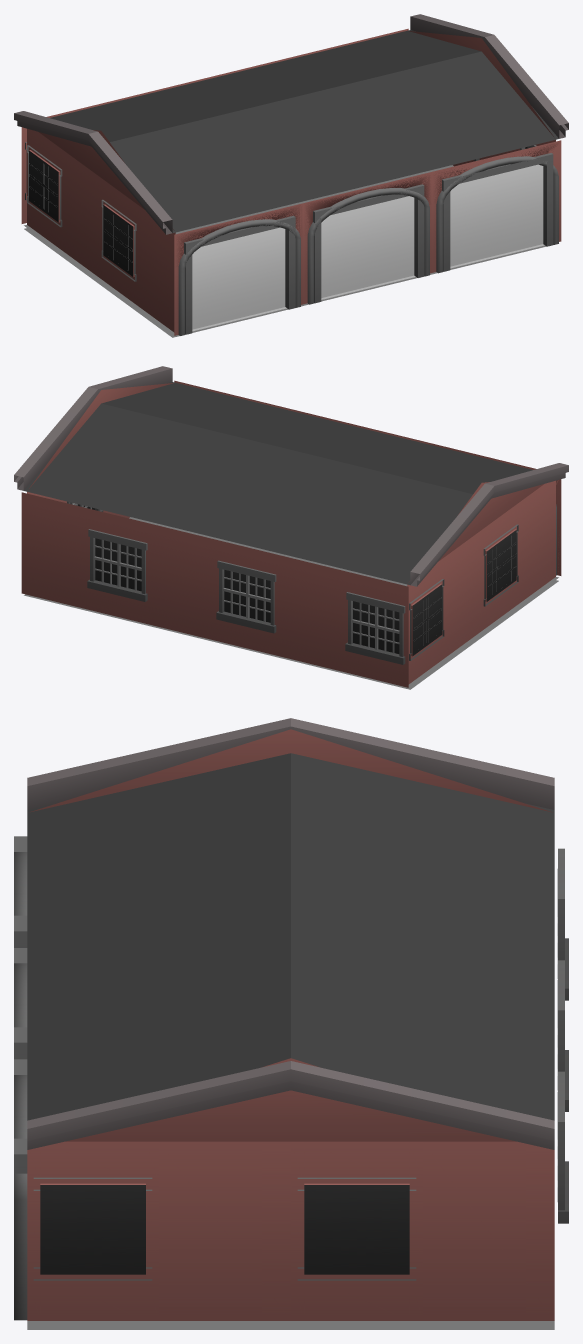
The model's file is cooling-service-hall.glb.
3 renders of one model, top to bottom at view 1: azimuth 30°, elevation 25°; view 2: azimuth 150°, elevation 25°; view 3: azimuth 270°, elevation 25°, orthographic. The views are drawn at different scales.
Visible parts, largest first — view 1: TreyIndustrialCoolingServiceHallVisual; view 2: TreyIndustrialCoolingServiceHallVisual; view 3: TreyIndustrialCoolingServiceHallVisual.
Boxes of the visible parts, x1=… form: TreyIndustrialCoolingServiceHallVisual: x1=14, y1=14, x2=568, y2=337; TreyIndustrialCoolingServiceHallVisual: x1=14, y1=366, x2=568, y2=689; TreyIndustrialCoolingServiceHallVisual: x1=14, y1=718, x2=568, y2=1329.
Size of the model in its own units: 12.6 by 4.5 by 8.42.
Materials: 1 (1 with a texture image).
